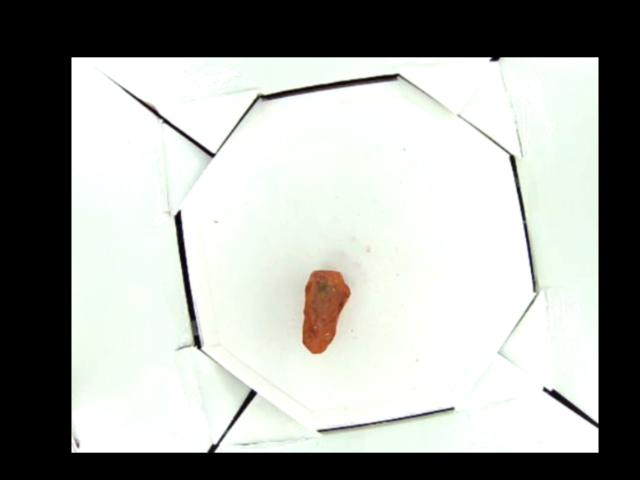Brisk: (303, 269, 348, 353)
